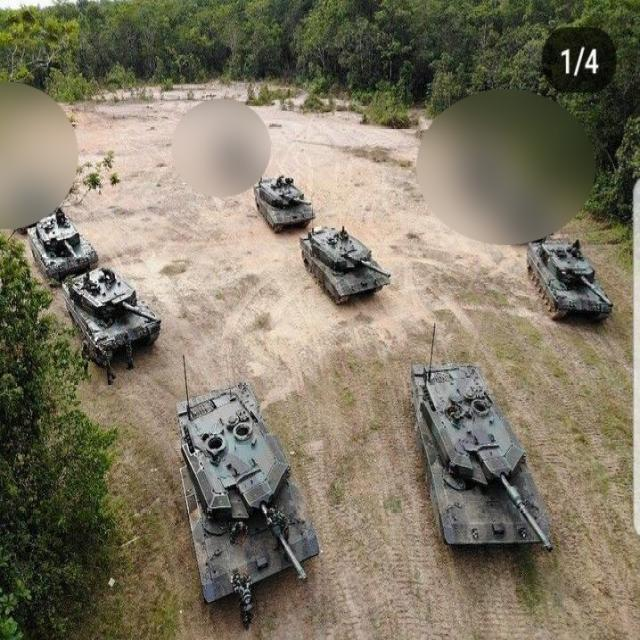tank: (176, 382, 322, 612), (411, 358, 553, 551), (63, 270, 162, 382), (526, 236, 614, 321), (299, 226, 392, 304), (28, 209, 99, 282), (254, 175, 316, 232)
